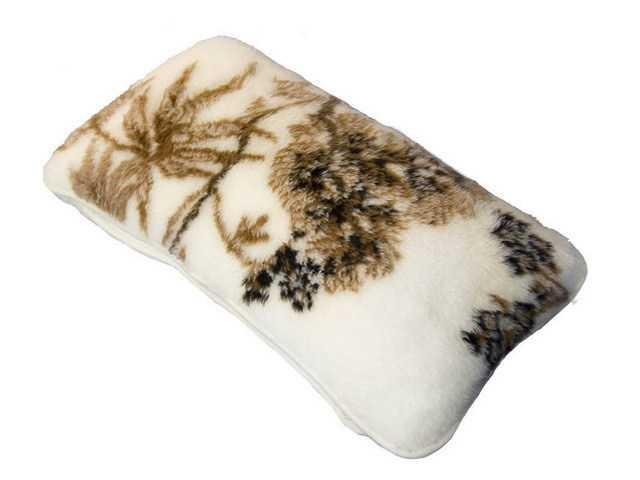pillow: (42, 33, 588, 459)
